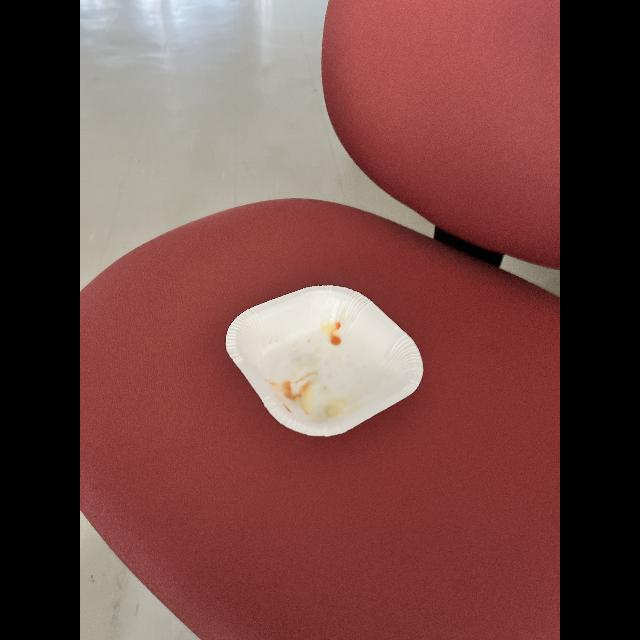cardboard_bowl: (213, 278, 424, 446)
